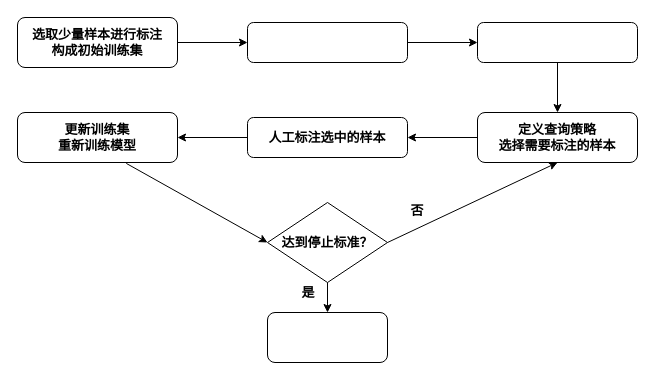
The diagram is 655 pixels wide and 380 high, and some of its shapes have lost their labels. The centre of each missing label's shape, as x and y in pixels:
"使用训练集训练模型" belongs at point 327,42.
"模型训练完成 可以应用" belongs at point 327,337.
"模型预测未标注样本" belongs at point 557,42.
